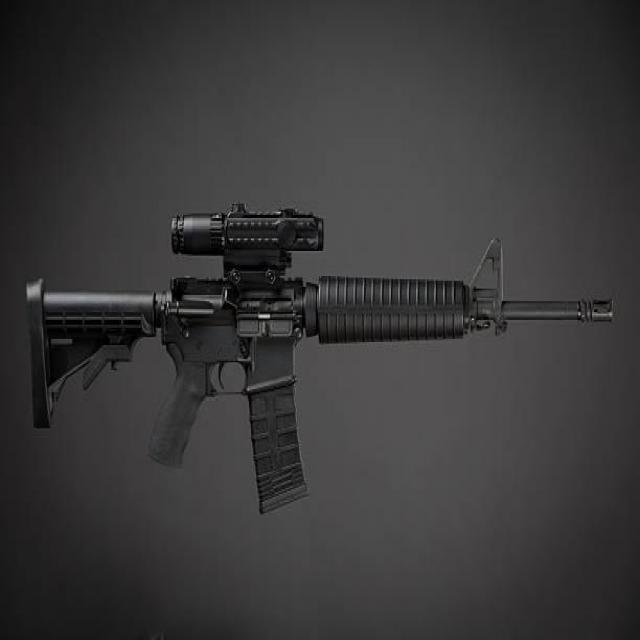weapon: (25, 201, 613, 517)
